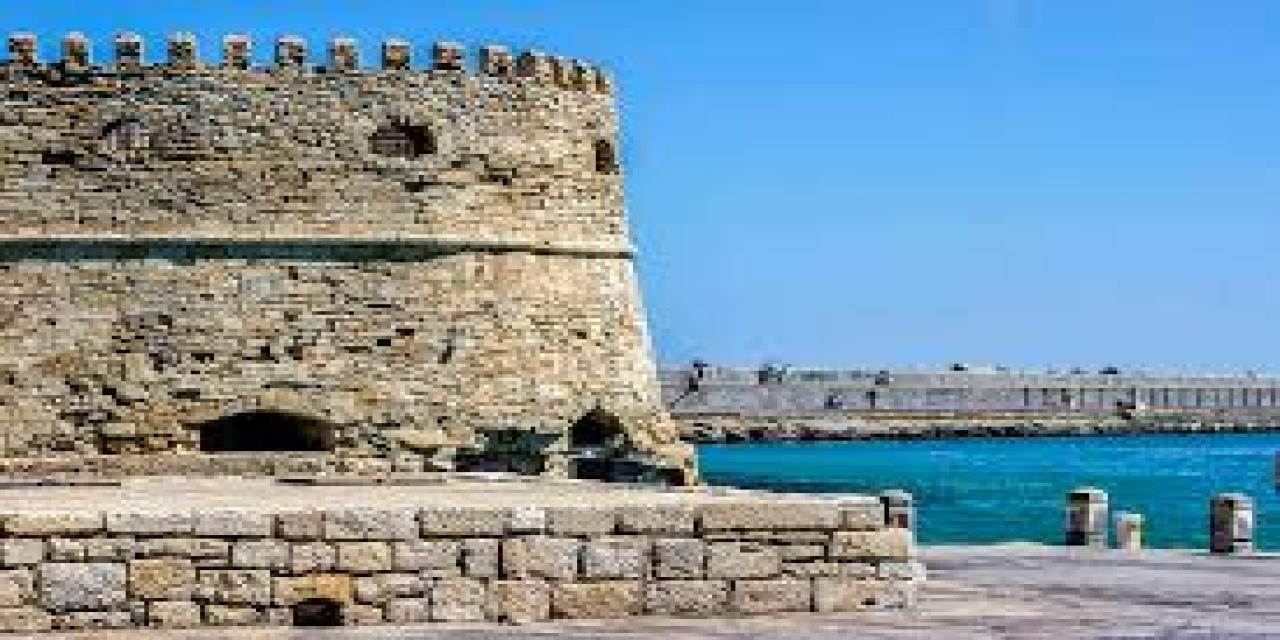Kules: (1, 26, 707, 489)
